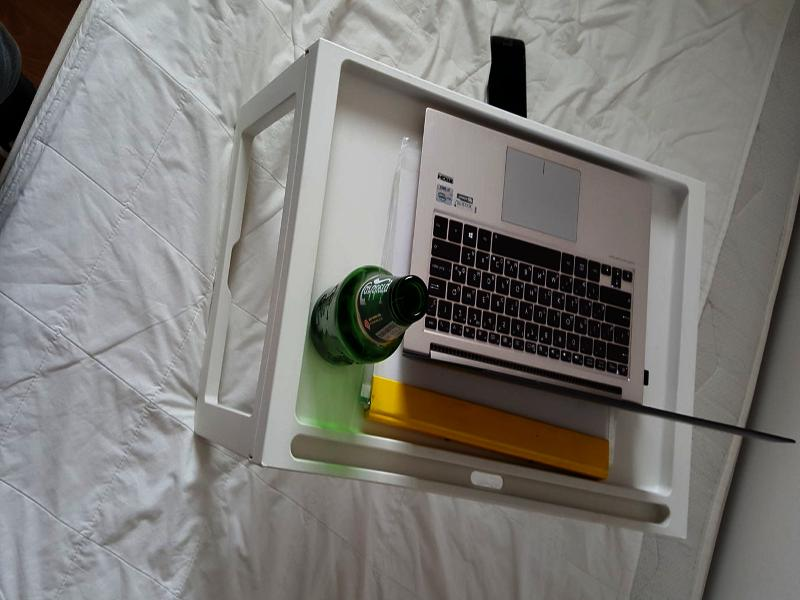Beer: (308, 265, 426, 365)
